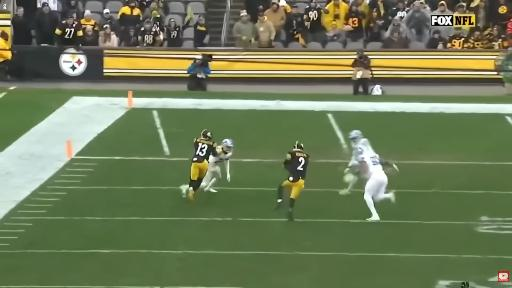Helmet: (349, 130, 363, 142), (222, 139, 233, 151), (201, 130, 212, 139), (294, 142, 303, 150), (358, 143, 367, 151)
Jersey: (355, 139, 384, 178), (284, 150, 309, 182), (192, 138, 217, 162), (209, 146, 232, 164)
Player: (349, 131, 394, 221), (276, 142, 309, 220), (188, 130, 217, 201), (200, 139, 233, 192), (340, 142, 358, 194)
